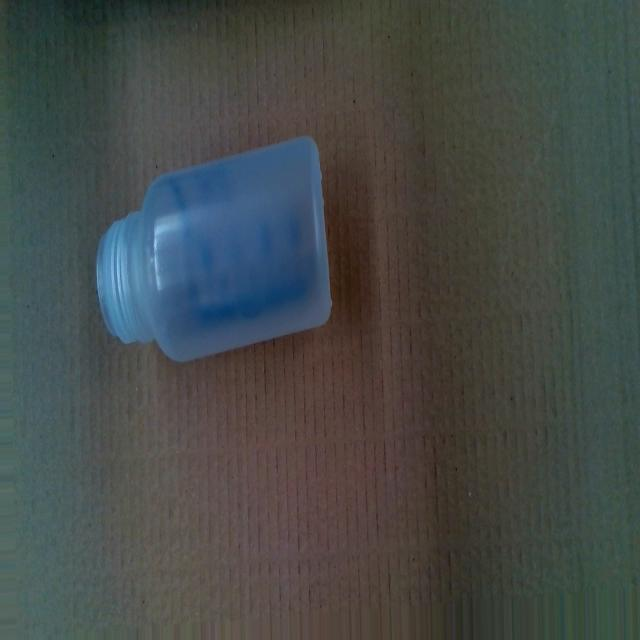bottle: (95, 137, 334, 366)
